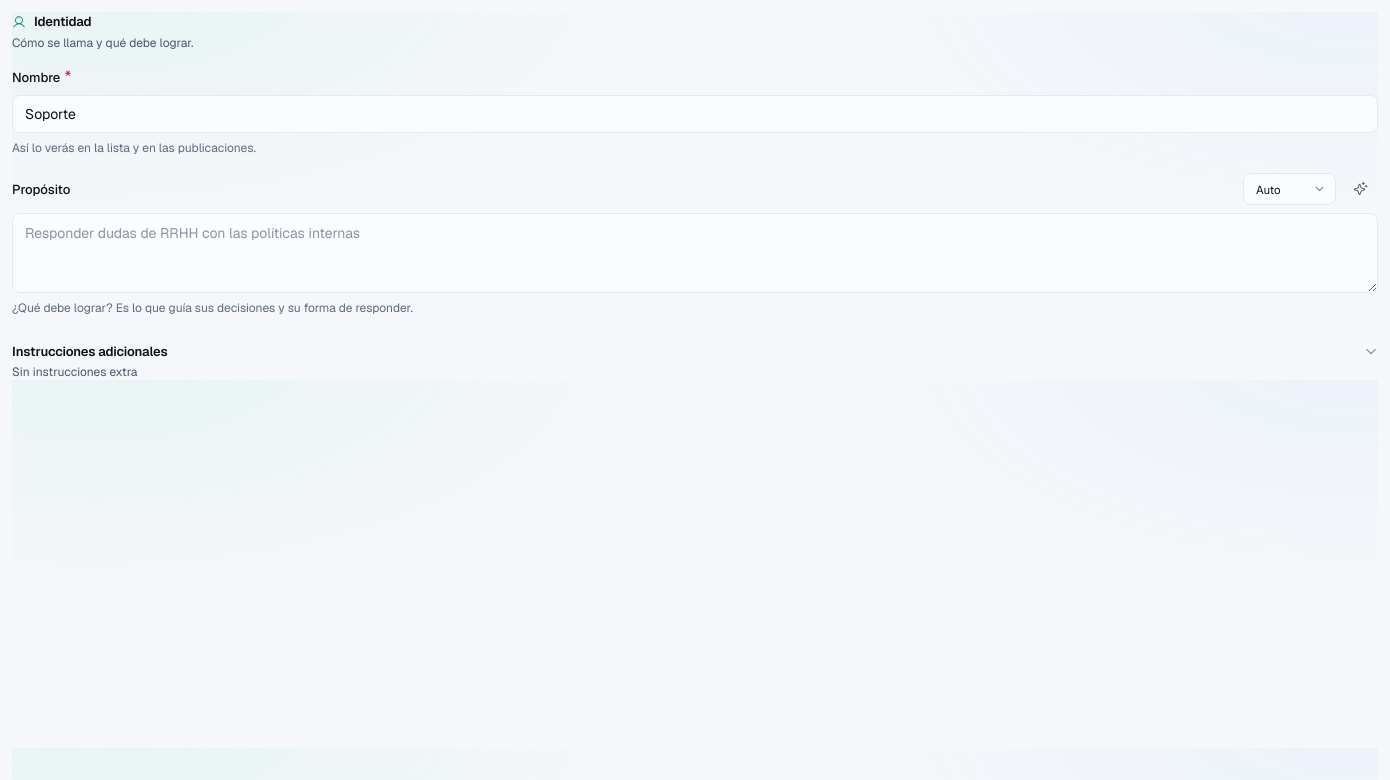
AgentPurposeForm › un fallo real se muestra y no toca el propósito
The width and height of the screenshot is (1390, 780).
What coordinates should you click on to do the following:
click the button named "Generar propósito con IA"
I would click on:
 (1360, 188)
Its box is x1=1342 y1=170 x2=1378 y2=206.
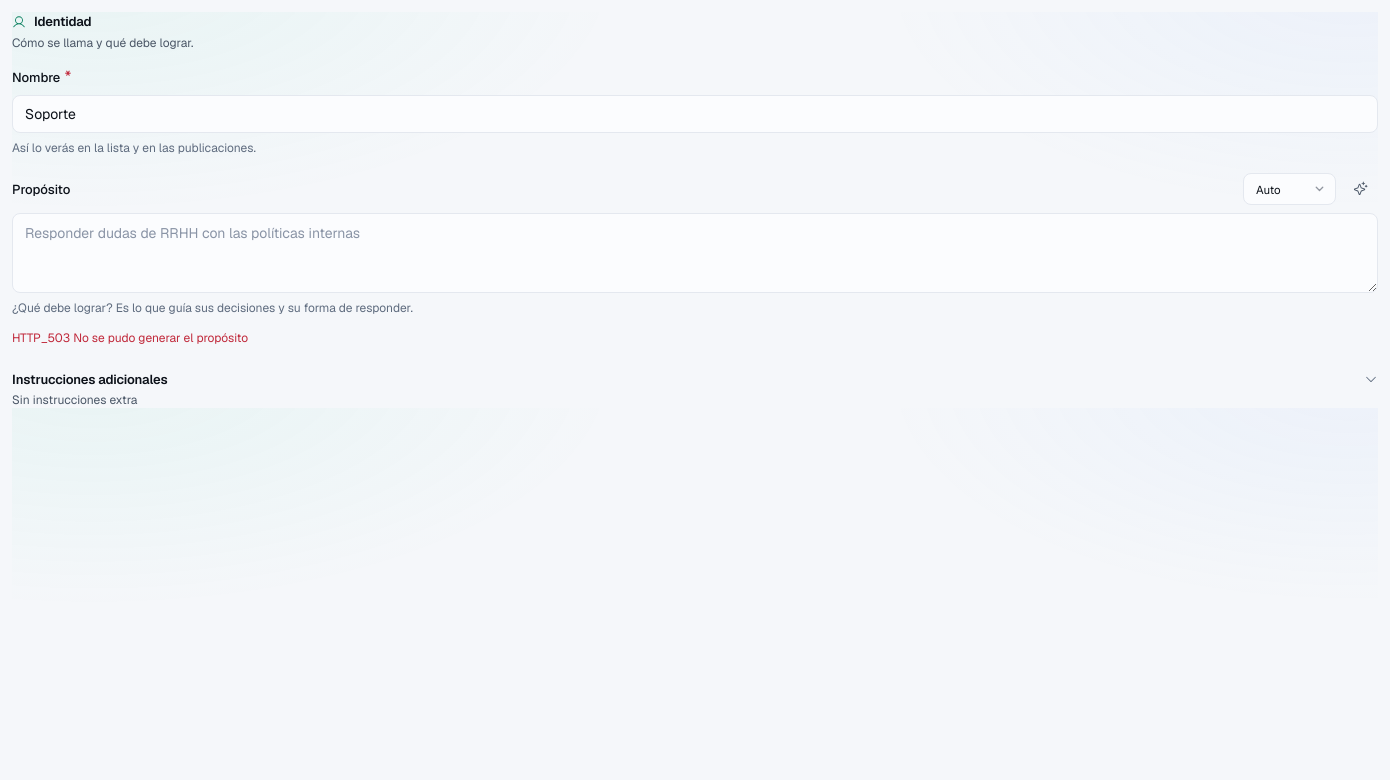
Result: the message shows "HTTP_503" at x1=12 y1=330 x2=248 y2=346
